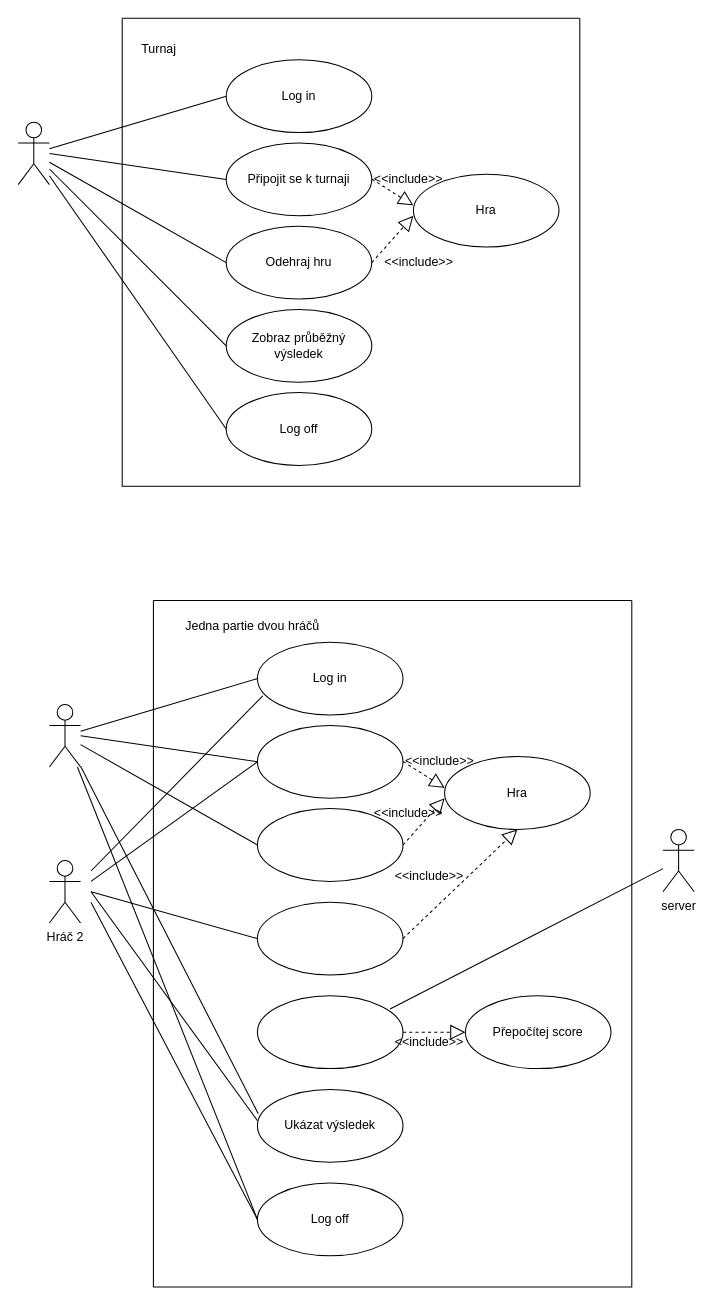
Some shapes in this 713 by 1305 pixel diagram are drawn without their labels. The centre of each missing label's shape, as x and y in pixels:
Hráč: the point at 33,153
Hráč 1: the point at 64,735
odehrát tah - druhý hráč: the point at 329,938
odehrát tah - první hráč: the point at 329,844
Připojit se k partii: the point at 329,761
zaznamenej výsledek: the point at 329,1032
